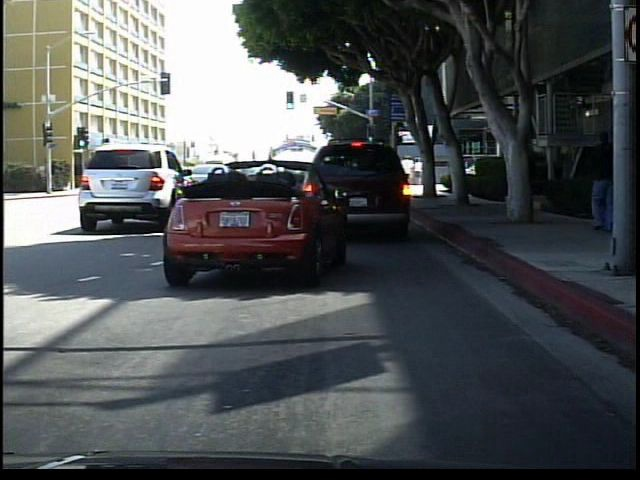person: (582, 132, 623, 239), (513, 142, 544, 223)
